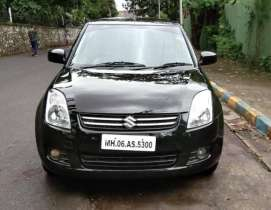nameplate: (101, 133, 156, 150)
